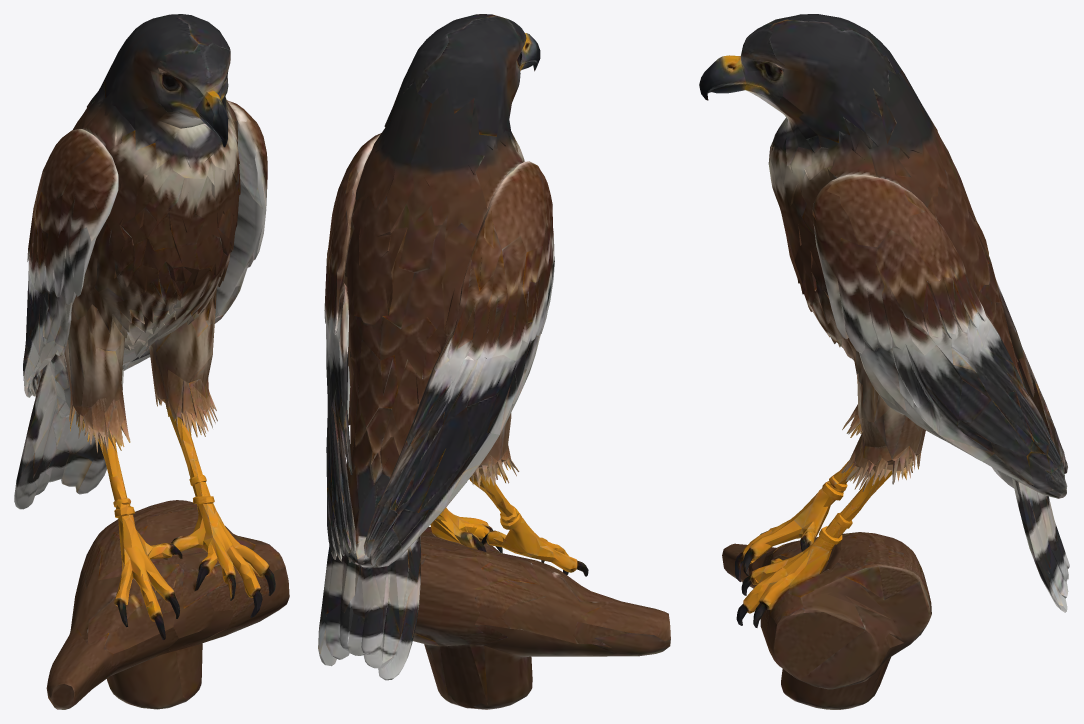
File: falcon.glb
3 views of the same model, side by side, from view 1: azimuth 30°, elevation 25°; view 2: azimuth 150°, elevation 25°; view 3: azimuth 270°, elevation 25° (orthographic). The views are drawn at different scales.
Bounding box in the file's own units: 0.799 × 1.9 × 0.9346.
Materials: 1 (1 with a texture image).
